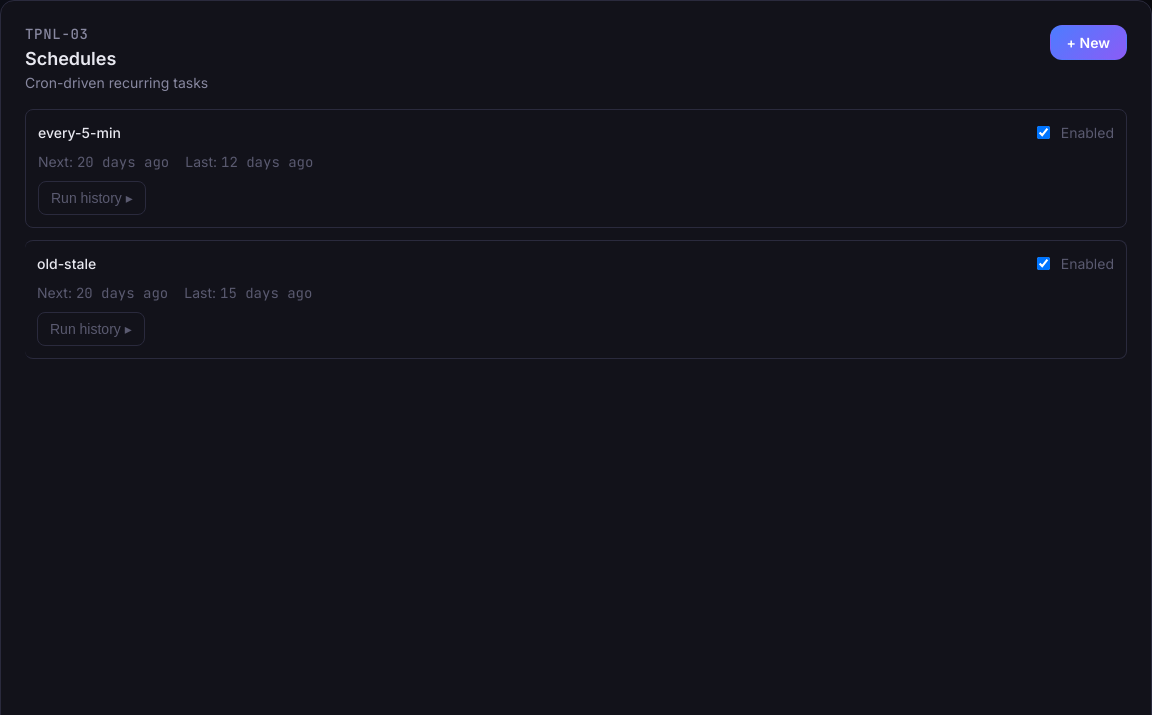
it: SchedulesCard › clicking "+ New" opens the ScheduleComposer Sheet (visible in document.body via portal)
The width and height of the screenshot is (1152, 715).
Expected: the text "every-5-min" is shown, [38, 122, 121, 143]
Expected: the text "New schedule" is not shown
Click the button "+ New": (1088, 42) [1050, 25, 1127, 60]
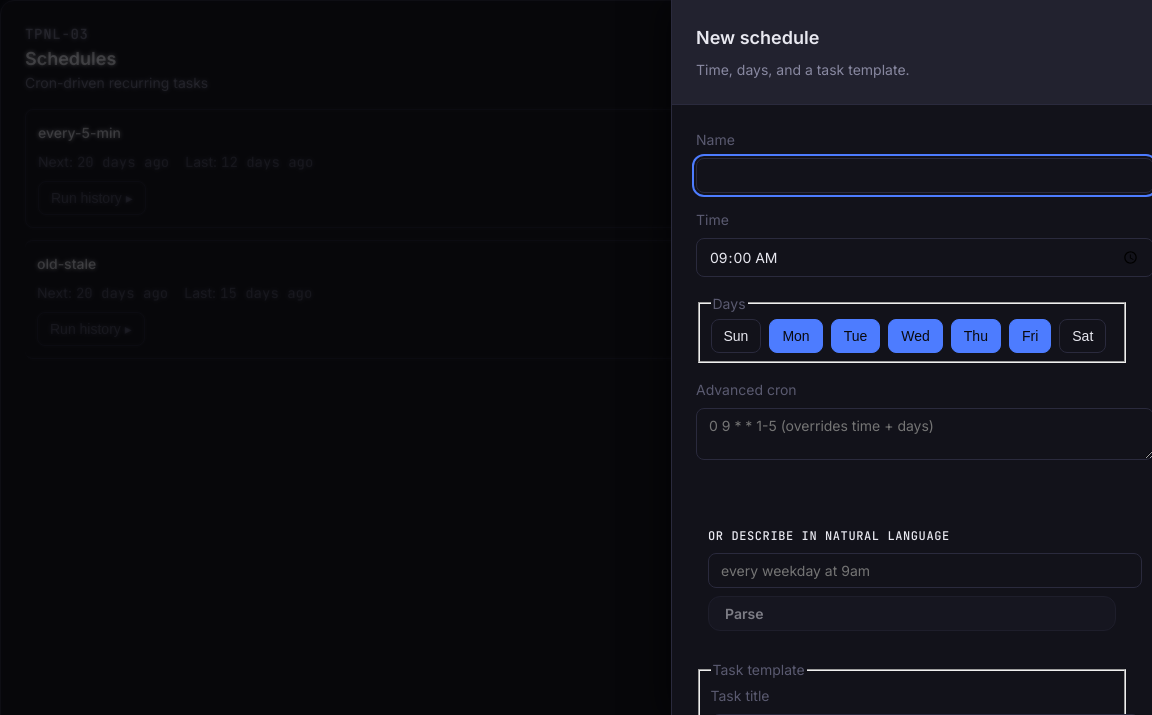
Now the heading "New schedule" is shown, box [696, 27, 819, 48]
